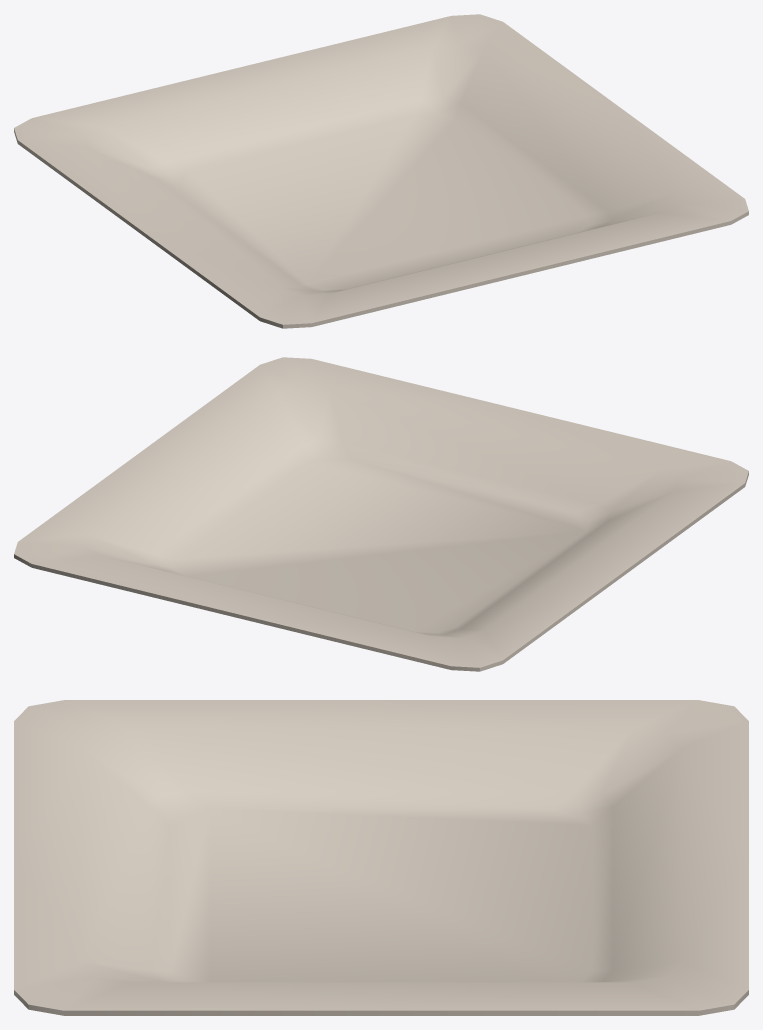
Rendered from plate.glb.
3 views of the same model, one above another, from view 1: azimuth 30°, elevation 25°; view 2: azimuth 150°, elevation 25°; view 3: azimuth 270°, elevation 25° (orthographic). The views are drawn at different scales.
Parts seen in each view (by area): view 1: Plate_2; view 2: Plate_2; view 3: Plate_2.
Boxes of the visible parts, x1,y1,x2,y2 form: Plate_2: (14, 14, 748, 328); Plate_2: (14, 357, 748, 671); Plate_2: (14, 700, 748, 1015).
Size of the model in its own units: 0.352 by 0.025 by 0.352.
